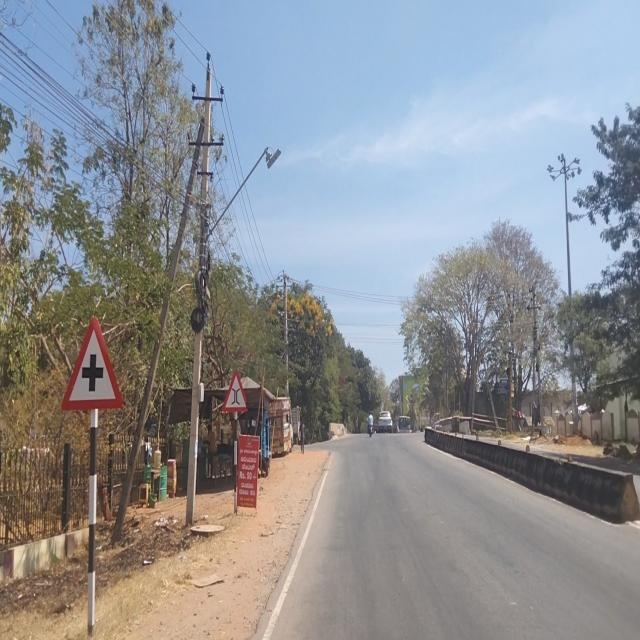bien_nguy_hiem: (60, 320, 120, 415), (221, 368, 250, 414)
